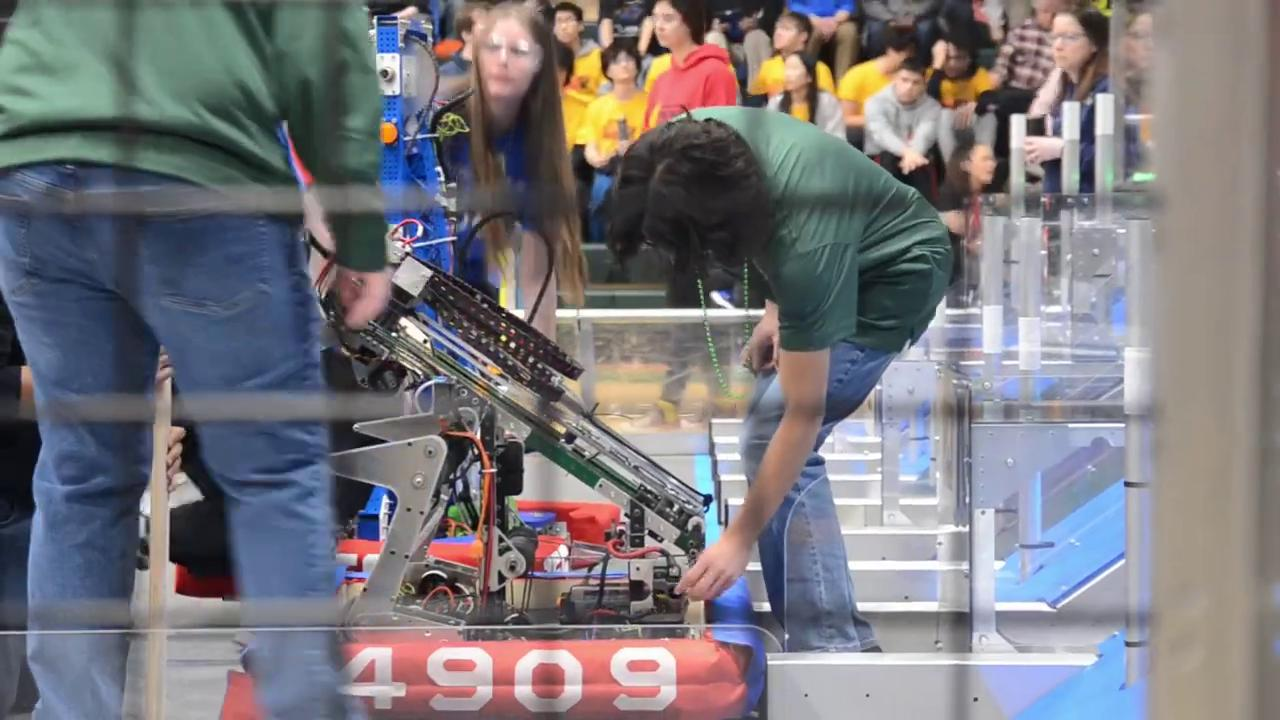robot: (331, 237, 746, 720)
